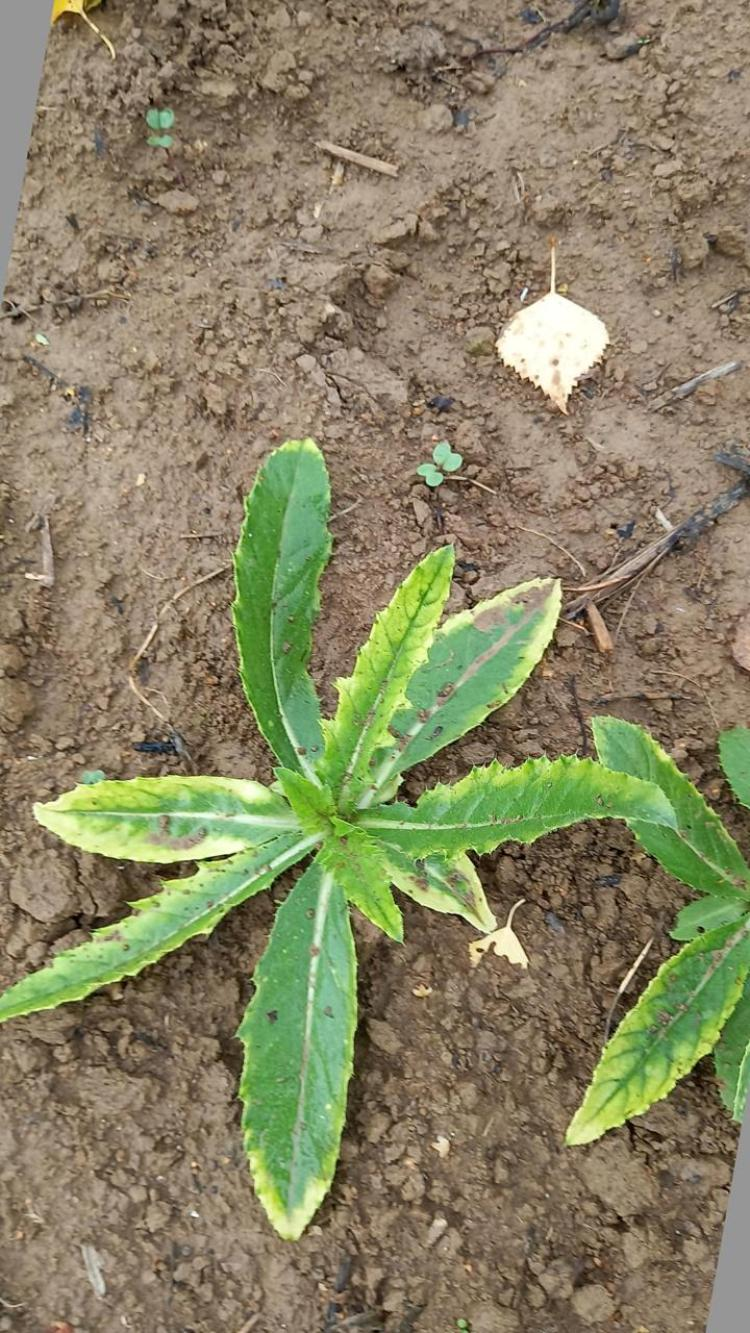bodyak: (0, 429, 692, 1243)
